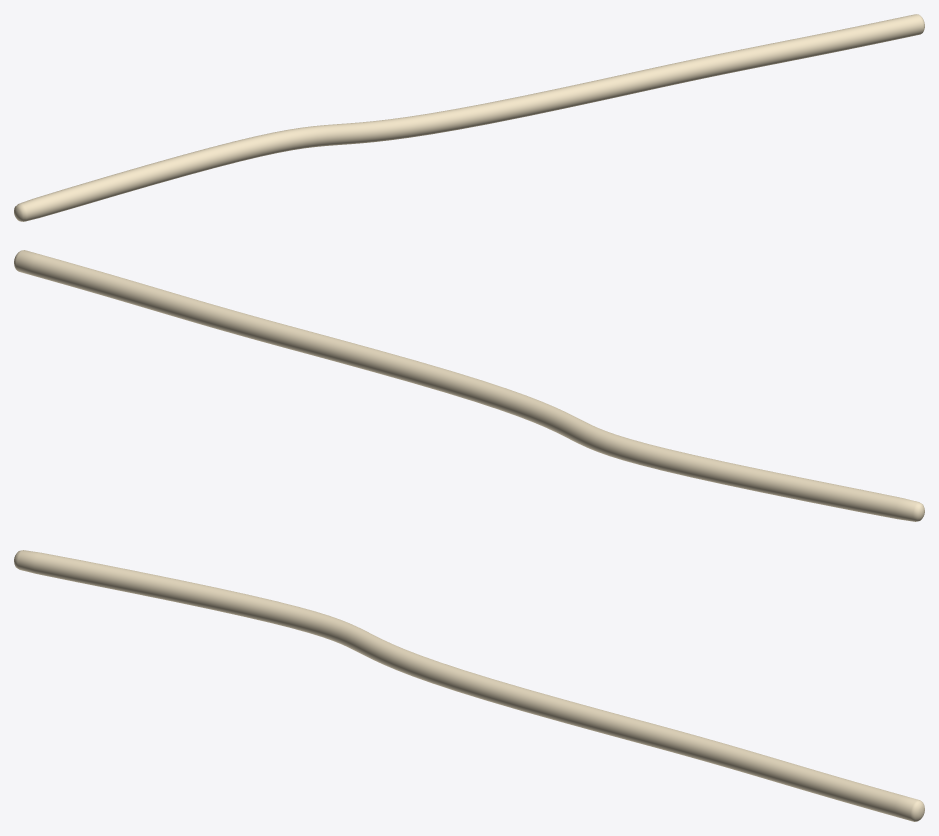
The model's file is gunflintia_001.glb.
3 views of the same model, one above another, from view 1: azimuth 30°, elevation 25°; view 2: azimuth 150°, elevation 25°; view 3: azimuth 330°, elevation 25° (orthographic). The views are drawn at different scales.
Visible parts, largest first — view 1: gunflintia_sheath; view 2: gunflintia_sheath; view 3: gunflintia_sheath.
Boxes of the visible parts, box(x1,y1,x2,y2) form: gunflintia_sheath: box(14, 14, 924, 221); gunflintia_sheath: box(14, 250, 924, 521); gunflintia_sheath: box(14, 550, 924, 821).
Size of the model in its own units: 110 by 2.28 by 10.97.
